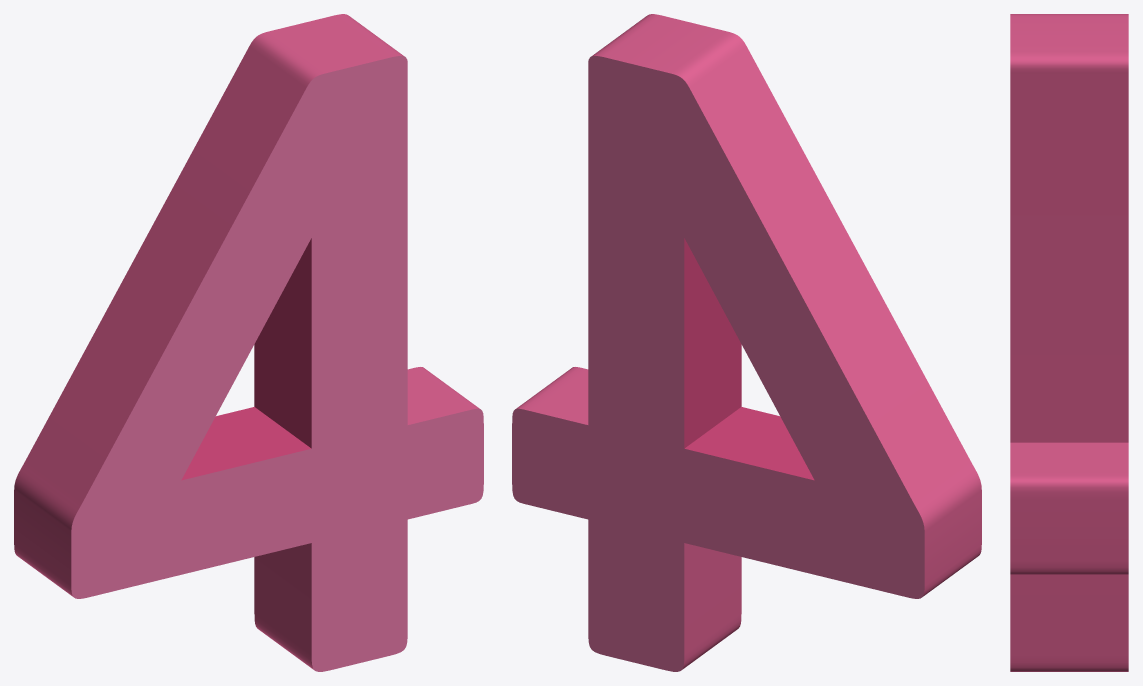
Rendered from number_four.FBX.
The picture shows the model from 3 angles, left to right: view 1: azimuth 30°, elevation 25°; view 2: azimuth 150°, elevation 25°; view 3: azimuth 270°, elevation 25°; orthographic projection. The views are drawn at different scales.
Parts seen in each view (by area): view 1: number_four; view 2: number_four; view 3: number_four.
Boxes of the visible parts, x1=… form: number_four: x1=14, y1=14, x2=483, y2=671; number_four: x1=512, y1=14, x2=981, y2=671; number_four: x1=1010, y1=14, x2=1128, y2=671.
Size of the model in its own units: 28.12 by 38.95 by 6.75.
